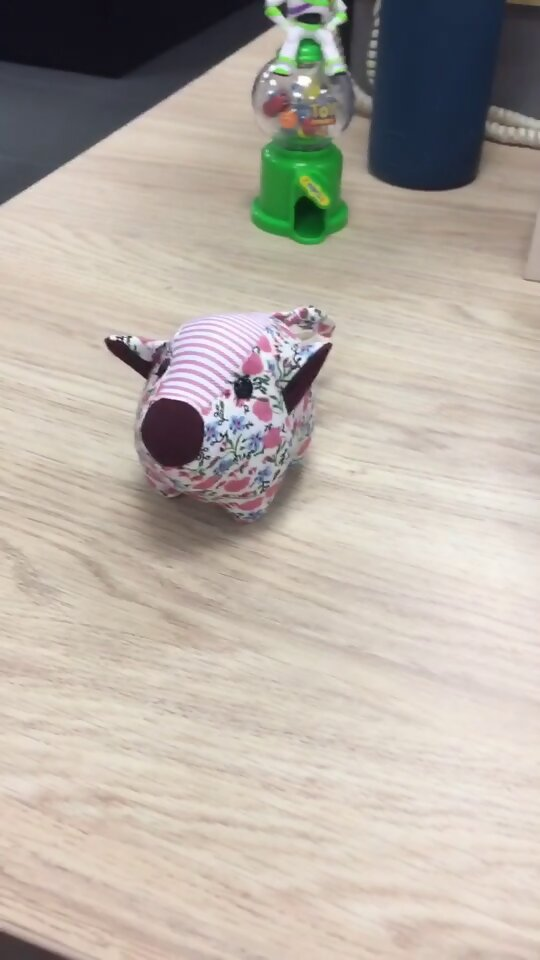pig: (102, 302, 339, 523)
